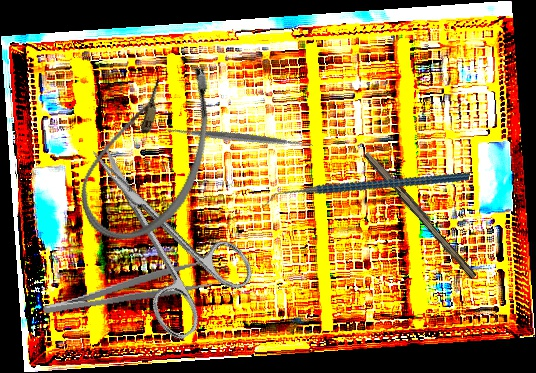Cannula: (67, 42, 233, 259)
Chopper: (262, 125, 471, 255)
Dressing Forceps: (39, 258, 213, 319)
Iris Scissors: (56, 113, 265, 346)
Scalpel Handle: (361, 149, 481, 280)
Spatula Surgical: (161, 59, 318, 216)
